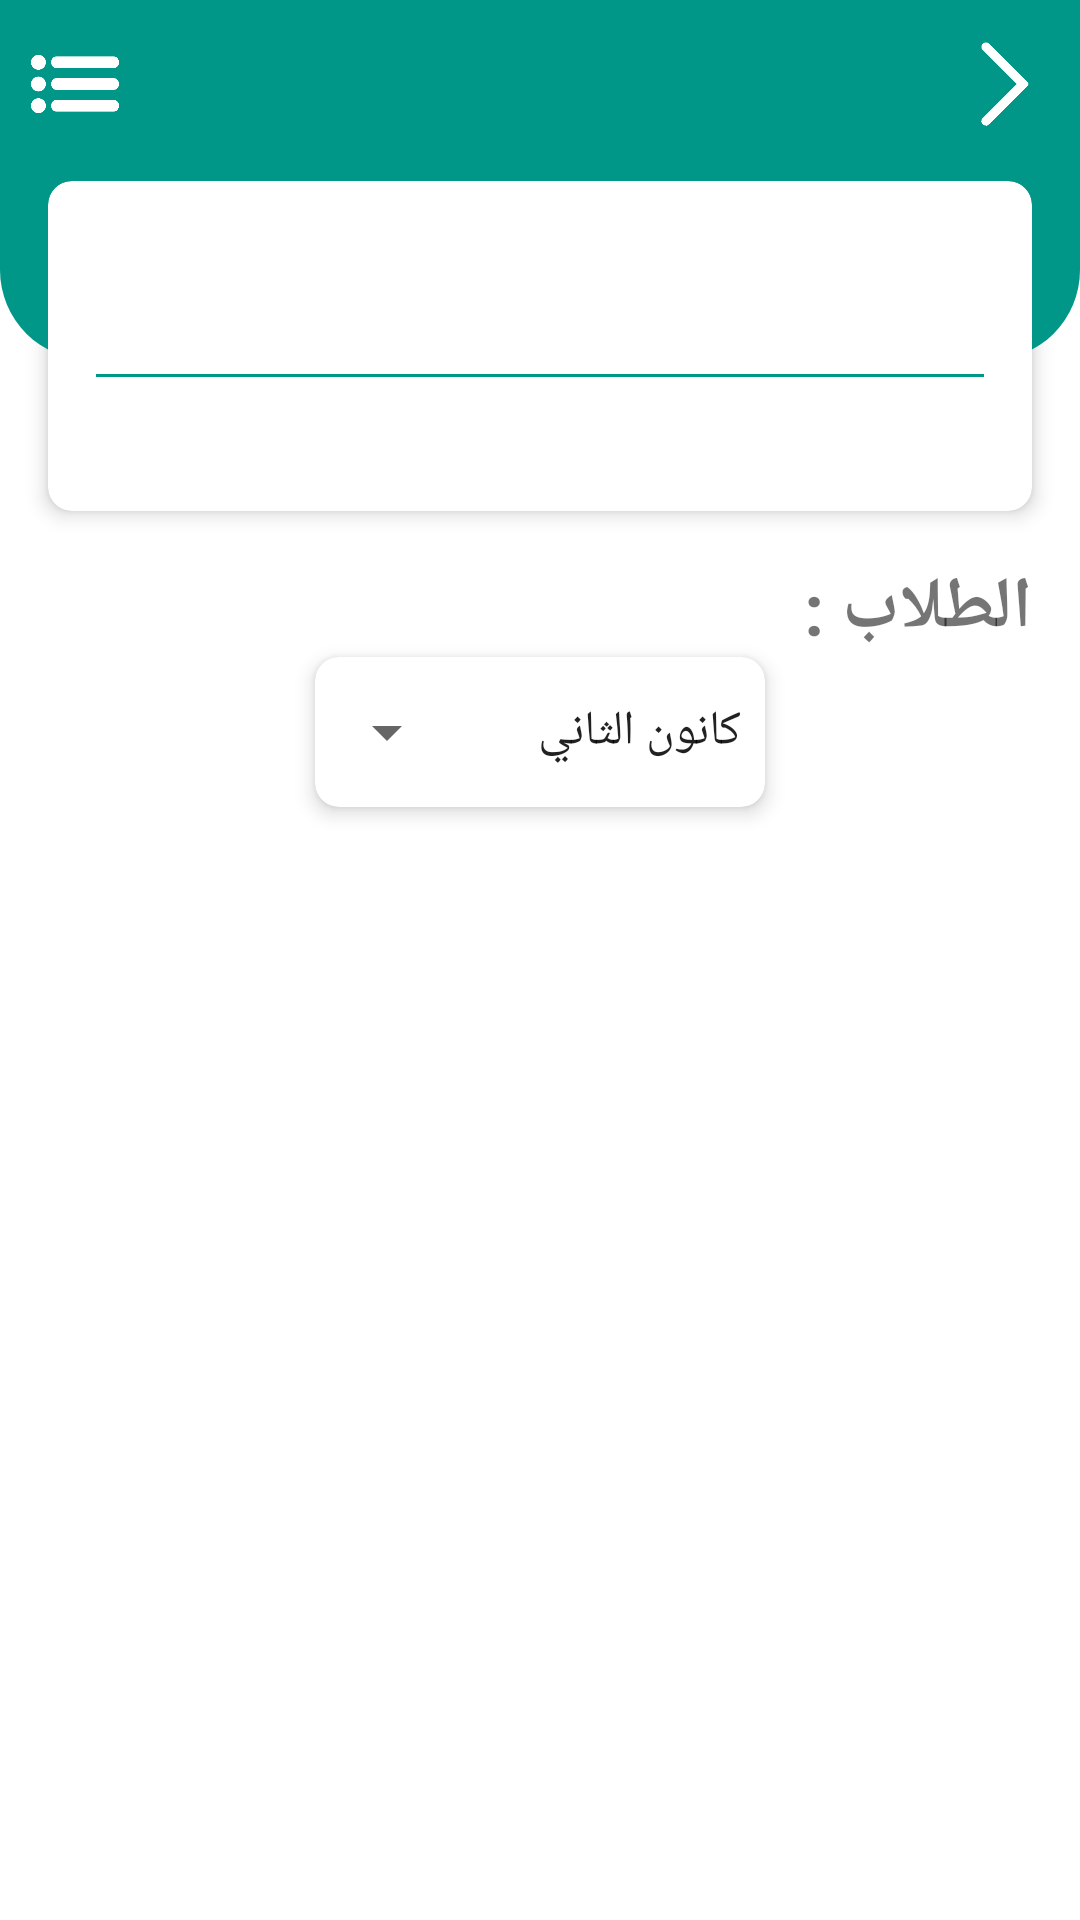

Where icons sit on this 1080×1920 app screen, as (x1, y1, x2, y2):
iconmenu: (31, 55, 119, 113)
